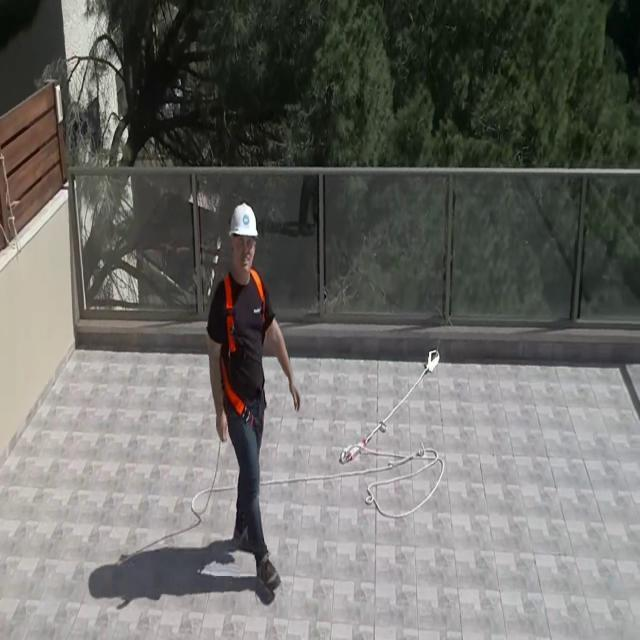Harness: (340, 350, 441, 464), (221, 273, 246, 416)
